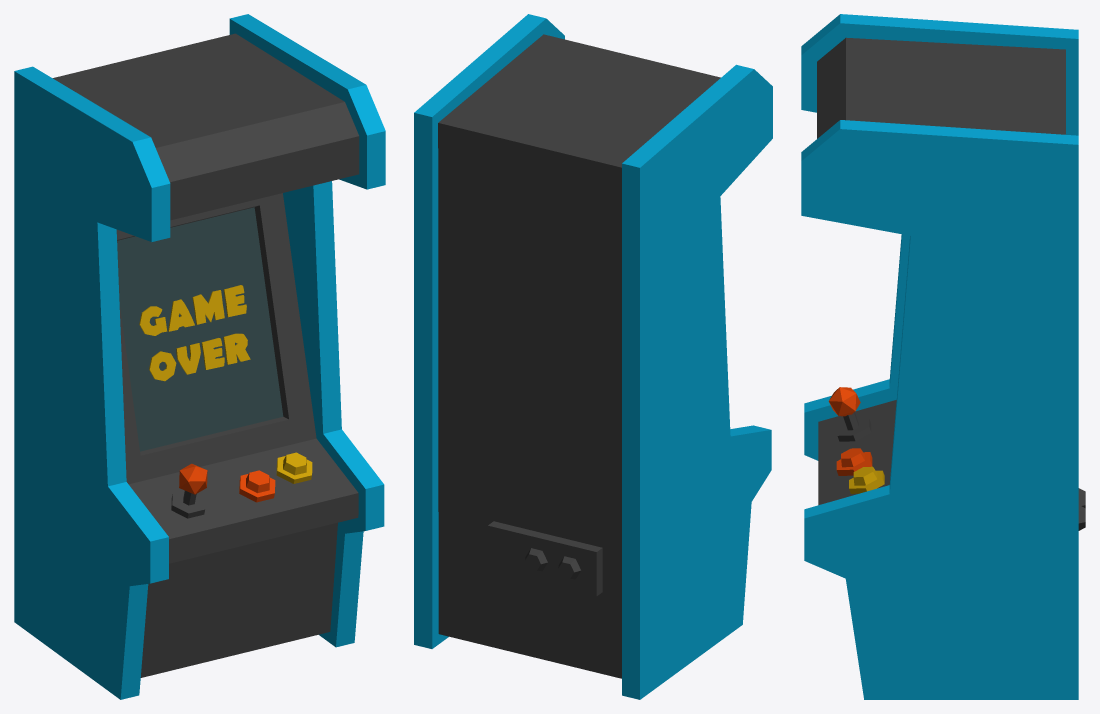
Rendered from arcade.glb.
3 renders of one model, left to right at view 1: azimuth 30°, elevation 25°; view 2: azimuth 150°, elevation 25°; view 3: azimuth 270°, elevation 25°, orthographic. The views are drawn at different scales.
Visible parts, largest first — view 1: gamemachine_01, Text001; view 2: gamemachine_01; view 3: gamemachine_01.
Part boxes in pixels (x1,y1,x2,y2): gamemachine_01: (14,14,385,699); Text001: (139,285,250,381); gamemachine_01: (414,14,772,699); gamemachine_01: (801,14,1085,699).
Bounding box in the file's own units: 0.8 × 1.85 × 0.8352.
